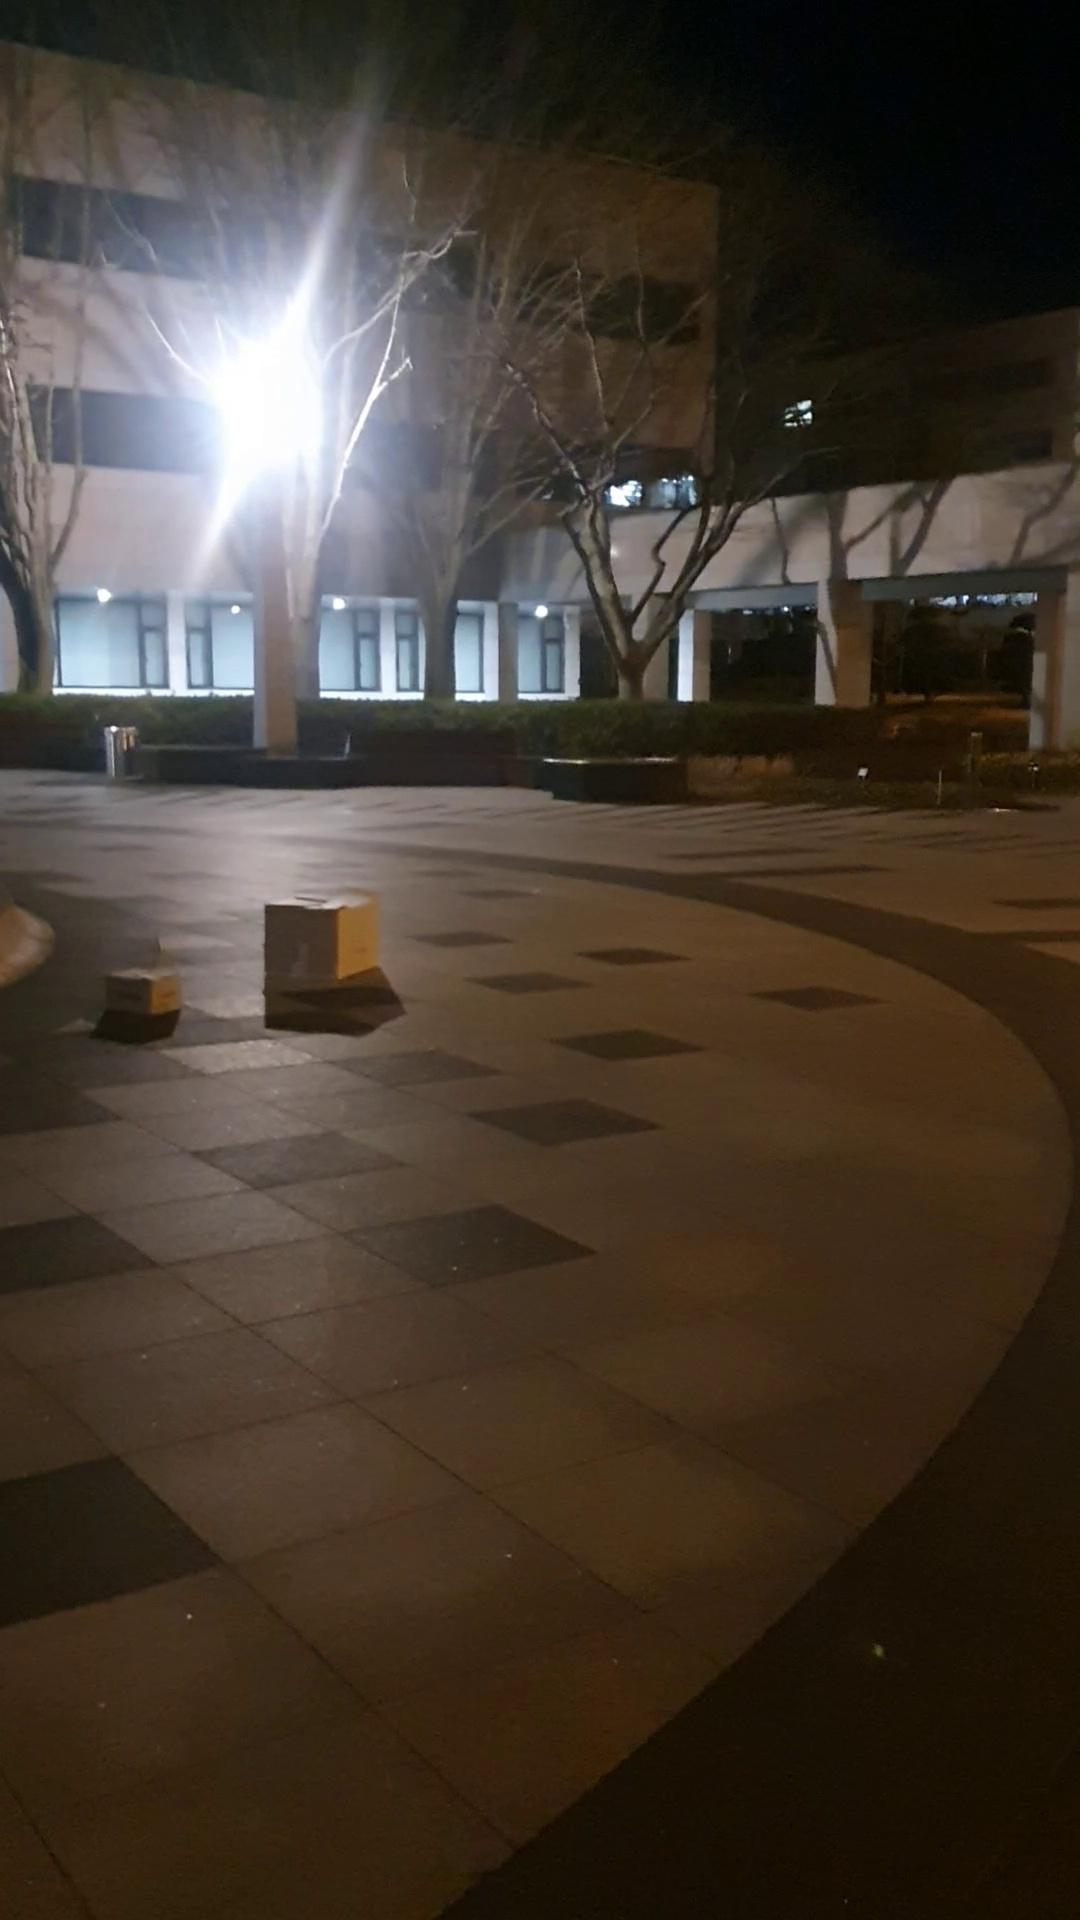Box: (251, 884, 385, 1010), (105, 960, 189, 1035)
